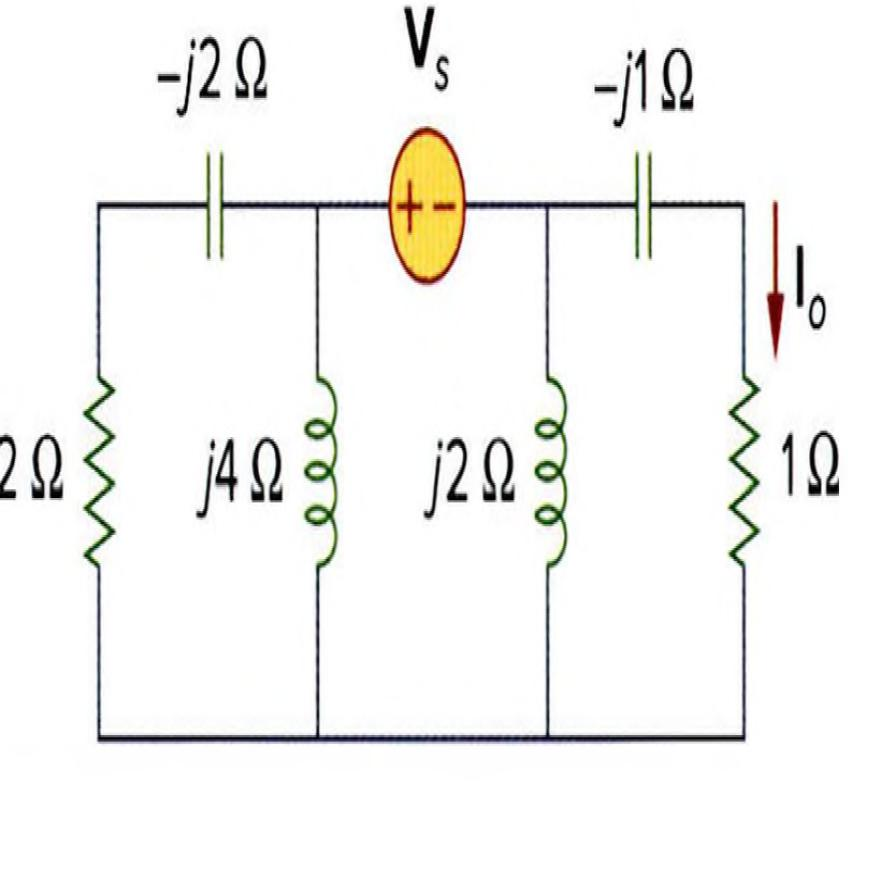C1: (617, 142, 667, 275), (192, 145, 236, 273)
L2: (297, 362, 345, 582), (530, 356, 574, 580)
V4: (388, 126, 465, 283)
